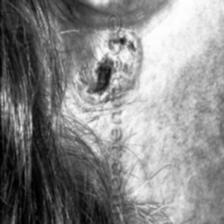Potentially Malignant Skin Tumors: (80, 39, 109, 121), (120, 34, 136, 98)
